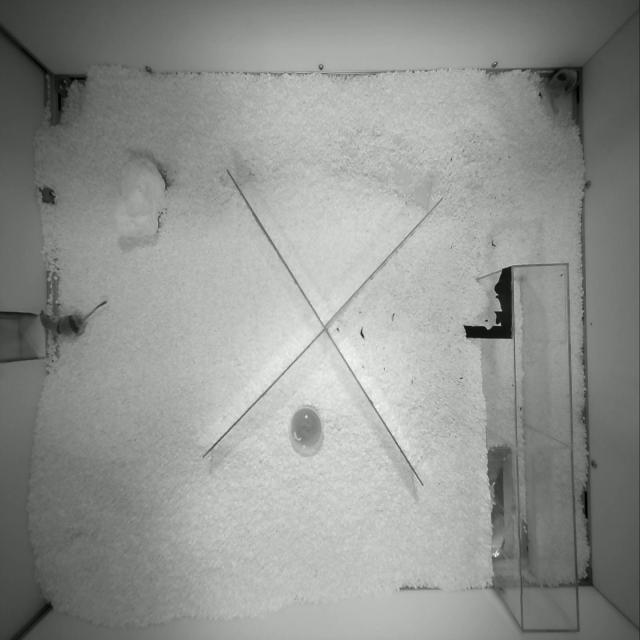pup_h_stripe: (40, 301, 106, 336)
pup_spotted: (544, 68, 578, 114)
